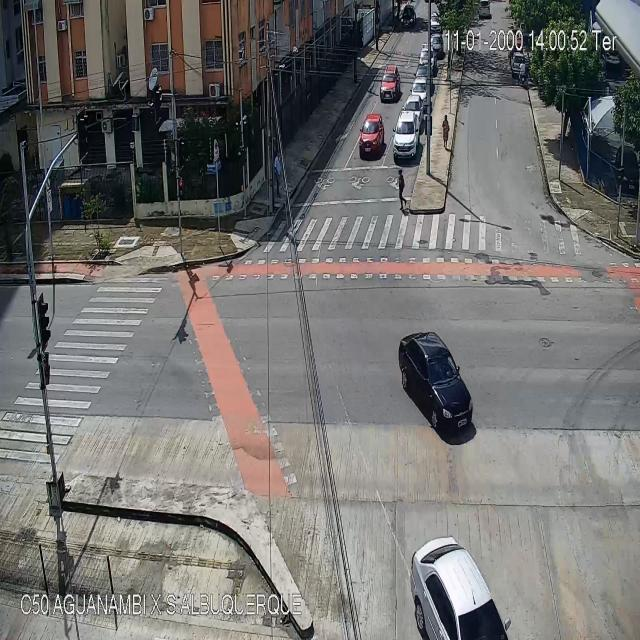Car: (409, 536, 514, 639), (399, 331, 475, 434), (394, 112, 418, 159), (361, 115, 383, 157), (380, 63, 401, 99), (404, 97, 423, 131), (411, 78, 426, 104), (399, 6, 415, 28), (415, 64, 432, 84), (418, 48, 433, 68), (431, 36, 444, 58), (512, 53, 525, 73), (430, 14, 441, 33)
Motorcycle: (519, 60, 527, 86)
